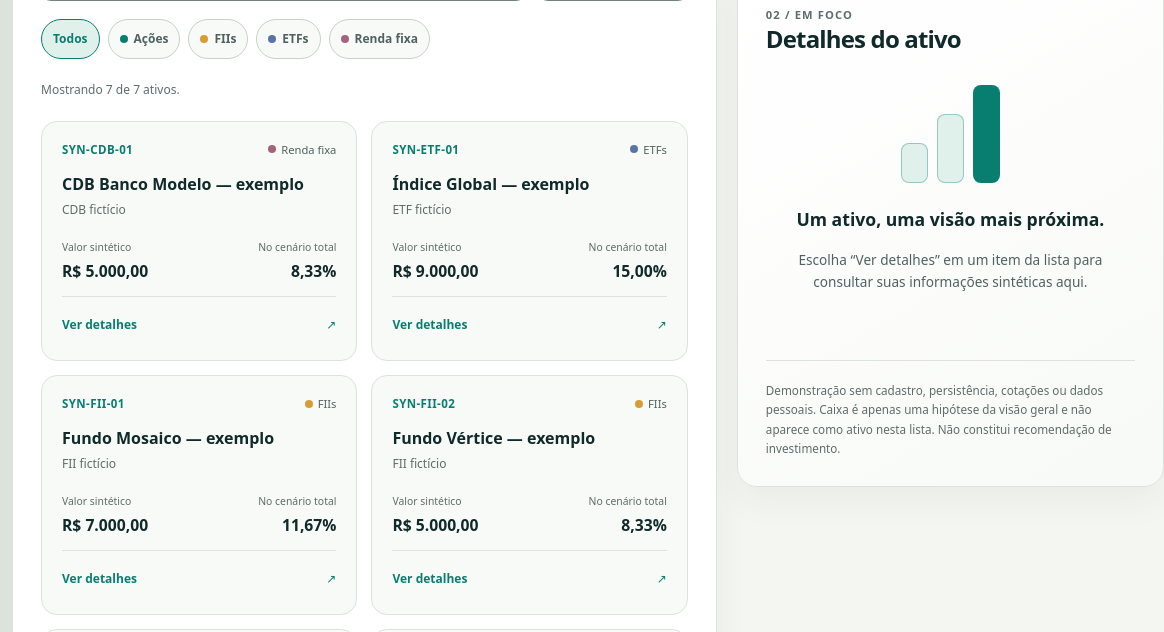
Scenario: AssetExplorer › shows empty results and restores all fixture items without bringing back a hidden selection
The width and height of the screenshot is (1164, 632).
(page scrolled)
Click the button named "Ver detalhes de SYN-ETF-01": (430, 324) [392,296,667,340]
(page scrolled)
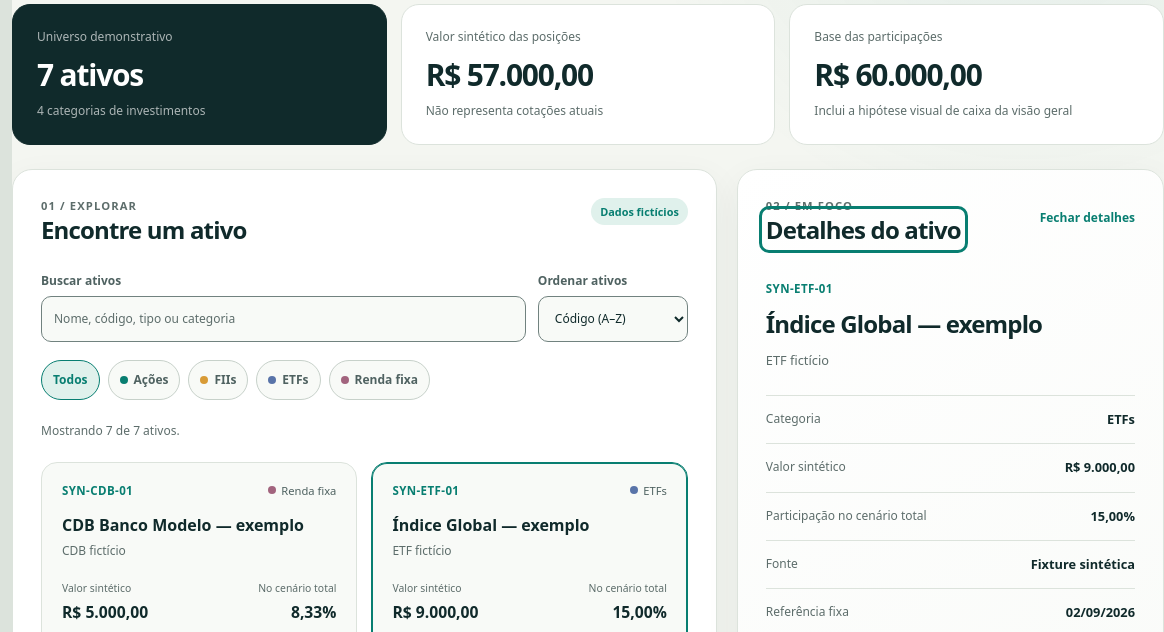
In the search field labelled "Buscar ativos": (283, 319) [41,296,526,342], type "não existe"
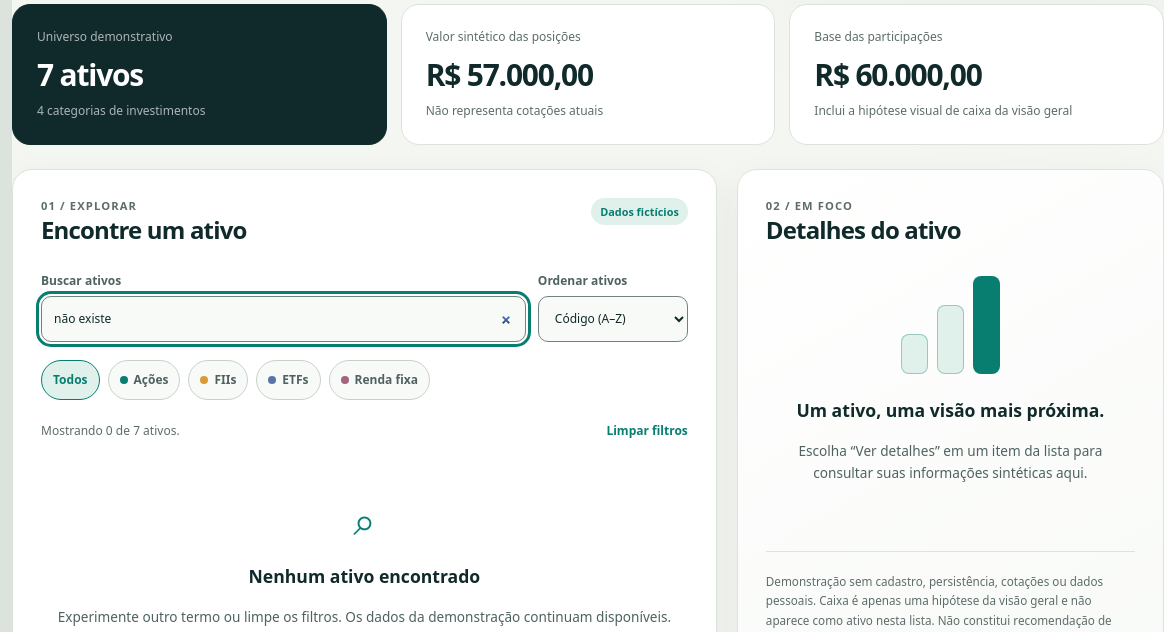
Check: the heading "Nenhum ativo encontrado" is shown, box [248,564,480,588]
Check: the message reads "Mostrando 0 de 7 ativos.", box [41,422,180,439]
Check: the button "Fechar detalhes" is gone
Click the button "Limpar filtros": (647, 431) [606,411,688,451]
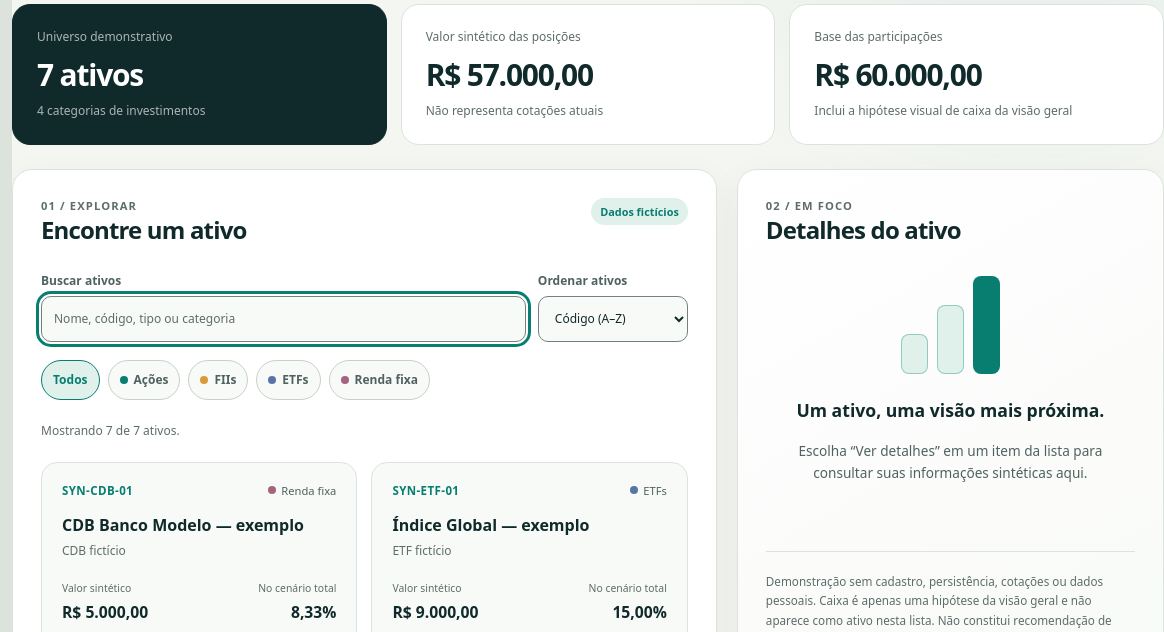
Check: the button "Fechar detalhes" is not shown
Check: the search field labelled "Buscar ativos" is empty, box [41,296,526,342]
Check: the number of buttons named "Ver detalhes de" is 7
